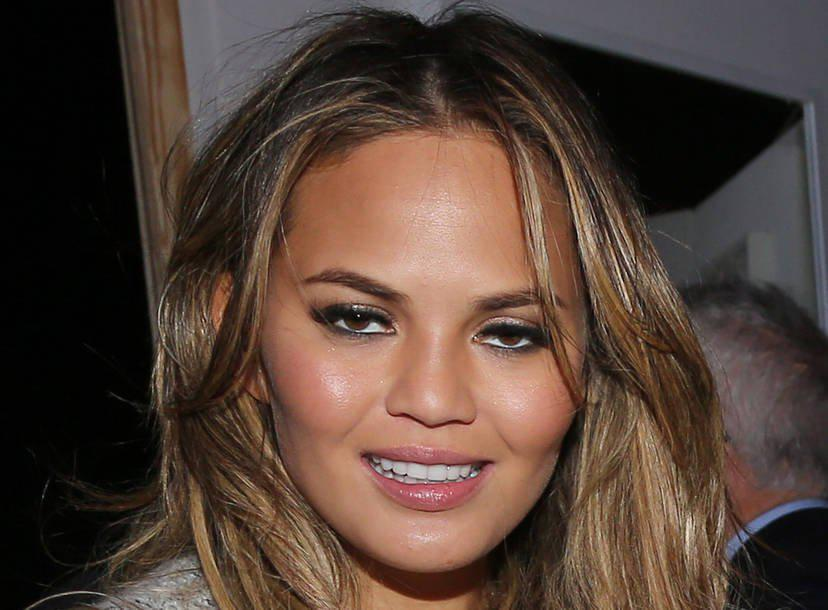Drunk: (273, 144, 576, 570)
